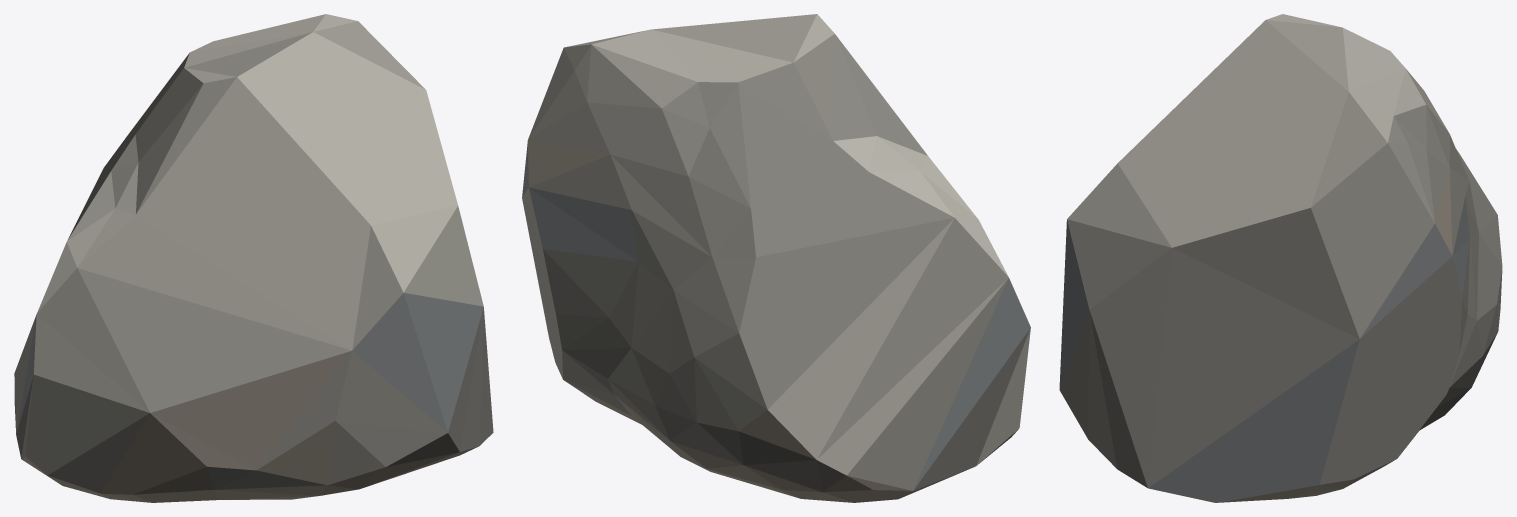
Rendered from rock-c.glb.
3 renders of one model, left to right at view 1: azimuth 30°, elevation 25°; view 2: azimuth 150°, elevation 25°; view 3: azimuth 270°, elevation 25°, orthographic. The views are drawn at different scales.
Visible parts, largest first — view 1: Rock_C_Large; view 2: Rock_C_Large; view 3: Rock_C_Large.
Part boxes in pixels (bbox=[...]): Rock_C_Large: bbox=[14, 14, 493, 502]; Rock_C_Large: bbox=[522, 14, 1030, 502]; Rock_C_Large: bbox=[1059, 14, 1502, 502].
Size of the model in its own units: 1.69 by 1.48 by 1.45.
Materials: 1 (1 with a texture image).
